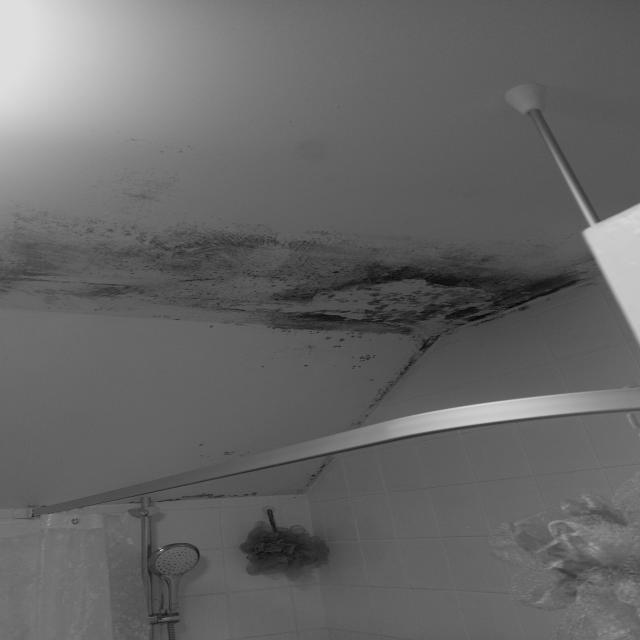stain marks: (0, 182, 589, 382), (143, 449, 334, 507), (331, 380, 407, 429), (274, 124, 340, 175)
